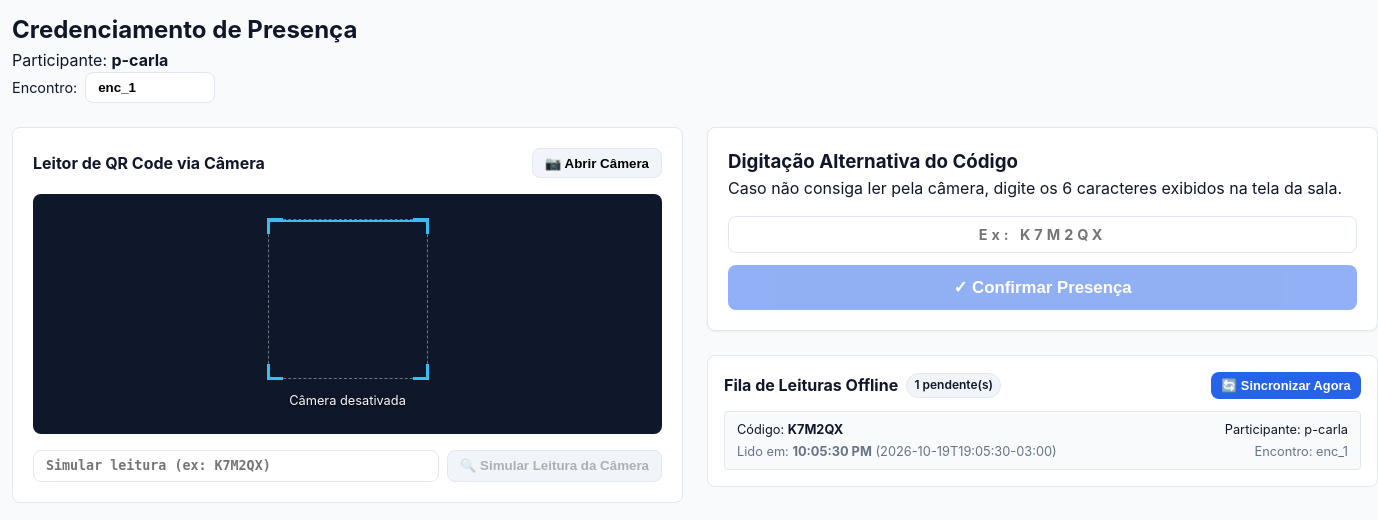
Test: M3 — Suporte Offline e Sincronização Resiliente › sincroniza manualmente leituras pendentes da fila enviando lidoEm para a API
Expected: the list with test id "queue-list" is shown, top-left (724, 411), bottom-right (1361, 470)
Expected: the text "Lido em: 10:05:30 PM (2026-10-19T19:05:30-03:00)" is shown, top-left (737, 442), bottom-right (1057, 461)
# Clica em sincronizar agora
Click the button with test id "btn-sincronizar-fila": [1286, 386] box top-left (1211, 372), bottom-right (1361, 399)
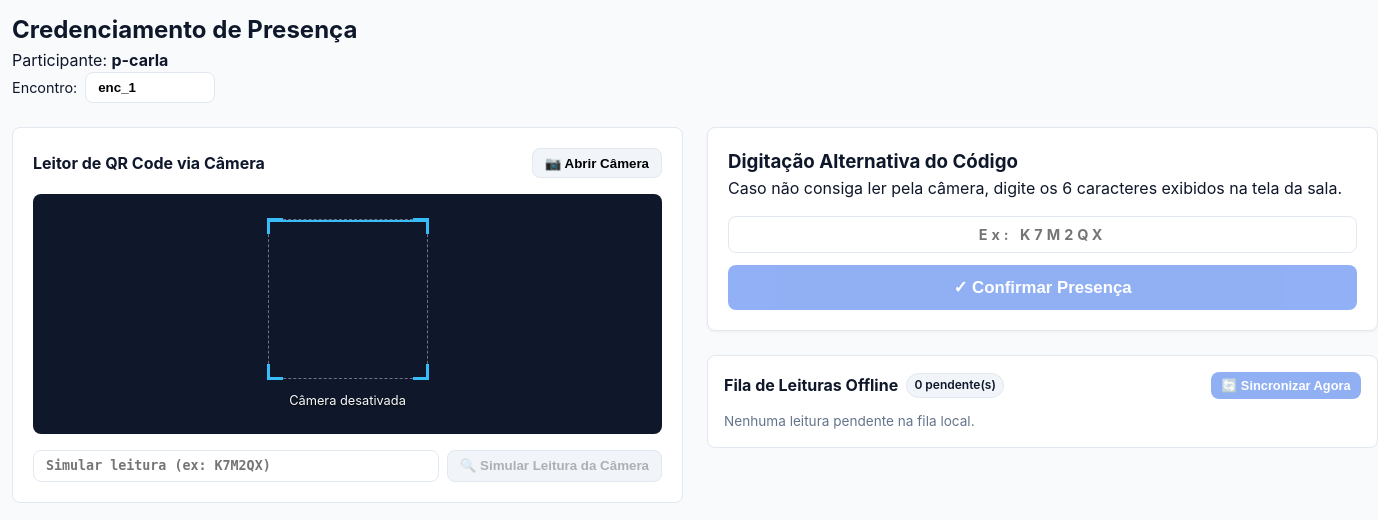
Now the text with test id "badge-pendentes-count" reads "0 pendente(s)", box top-left (906, 373), bottom-right (1004, 398)
Now the text with test id "empty-queue-msg" shows "Nenhuma leitura pendente", box top-left (724, 413), bottom-right (975, 429)
